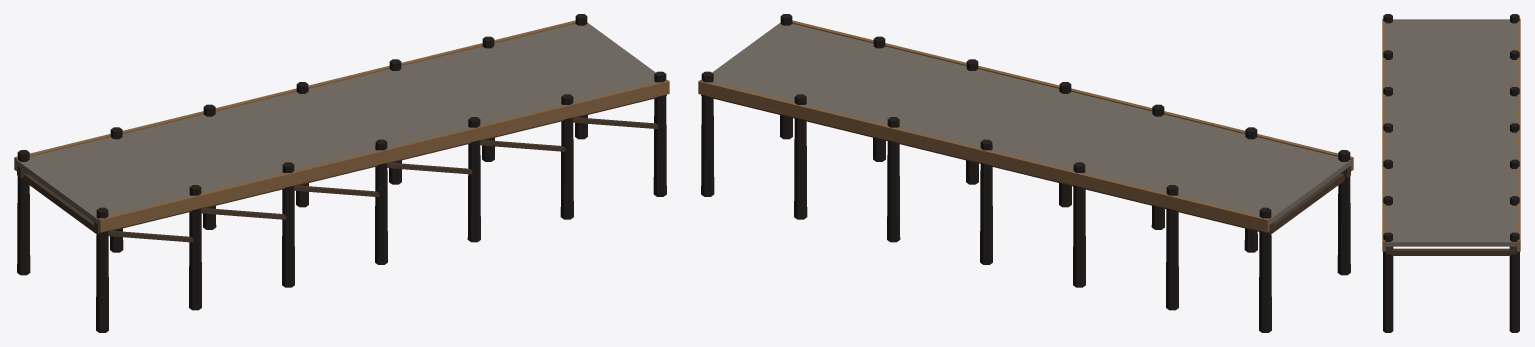
File: pier_thead_20m.glb
3 renders of one model, left to right at view 1: azimuth 30°, elevation 25°; view 2: azimuth 150°, elevation 25°; view 3: azimuth 270°, elevation 25°, orthographic. The views are drawn at different scales.
Visible parts, largest first — view 1: pier_thead_20m_deck_x, pier_thead_20m_piles, pier_thead_20m_rubrail, pier_thead_20m_frame; view 2: pier_thead_20m_deck_x, pier_thead_20m_piles, pier_thead_20m_rubrail, pier_thead_20m_frame; view 3: pier_thead_20m_deck_x, pier_thead_20m_piles, pier_thead_20m_rubrail, pier_thead_20m_frame.
Boxes of the visible parts, x1=… form: pier_thead_20m_deck_x: x1=16, y1=22, x2=655, y2=224; pier_thead_20m_piles: x1=17, y1=14, x2=666, y2=332; pier_thead_20m_rubrail: x1=14, y1=20, x2=669, y2=232; pier_thead_20m_frame: x1=17, y1=94, x2=666, y2=242; pier_thead_20m_deck_x: x1=712, y1=22, x2=1351, y2=224; pier_thead_20m_piles: x1=701, y1=14, x2=1350, y2=332; pier_thead_20m_rubrail: x1=698, y1=20, x2=1353, y2=232; pier_thead_20m_frame: x1=701, y1=94, x2=1350, y2=234; pier_thead_20m_deck_x: x1=1385, y1=19, x2=1517, y2=246; pier_thead_20m_piles: x1=1383, y1=14, x2=1519, y2=332; pier_thead_20m_rubrail: x1=1382, y1=18, x2=1520, y2=251; pier_thead_20m_frame: x1=1386, y1=246, x2=1516, y2=255.
Bounding box in the file's own units: 20 × 4.05 × 5.24.
